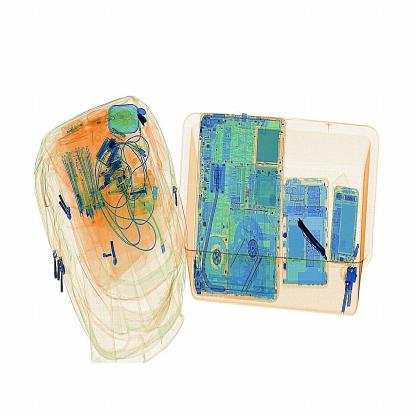knife: (298, 218, 328, 262)
